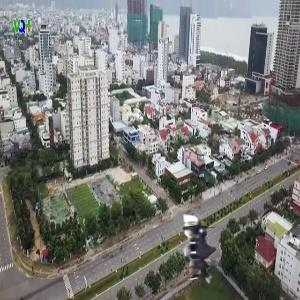drone: (153, 208, 243, 298)
